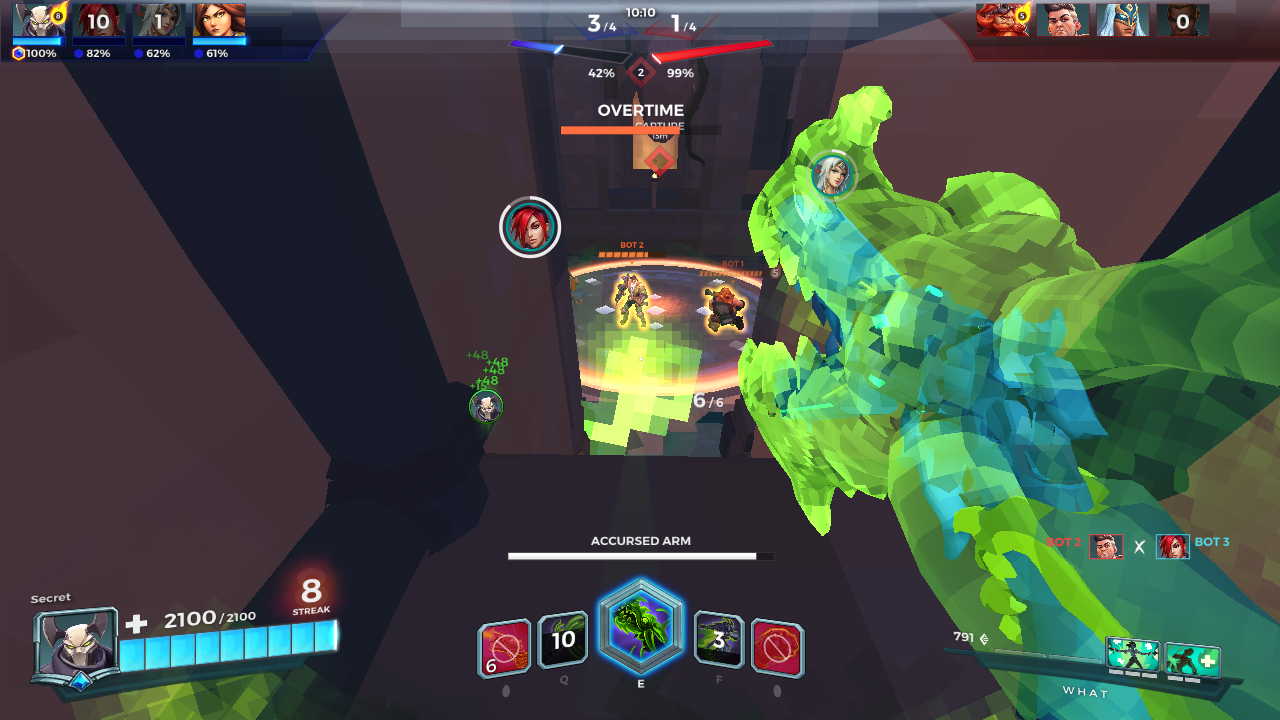model: (695, 284, 751, 339), (607, 271, 653, 332)
